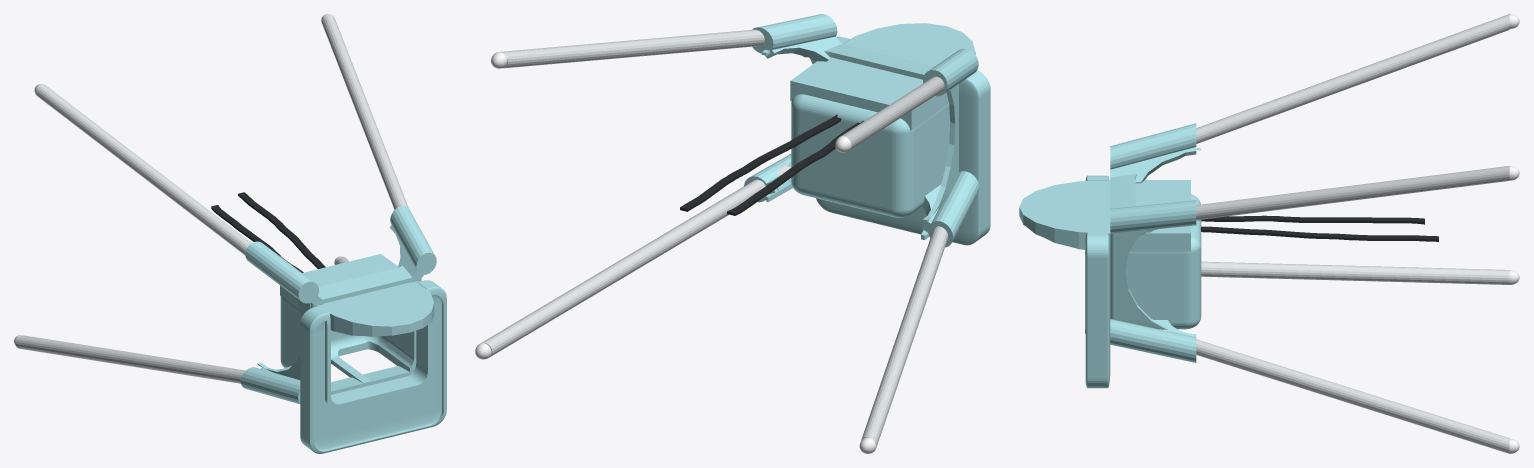
Rendered from antilop.obj.
The picture shows the model from 3 angles, left to right: view 1: azimuth 30°, elevation 25°; view 2: azimuth 150°, elevation 25°; view 3: azimuth 270°, elevation 25°; orthographic projection. The views are drawn at different scales.
Visible parts, largest first — view 1: group_0_11593967, group_0_14541540, group_0_2829873; view 2: group_0_11593967, group_0_14541540, group_0_2829873, group_0_16448250; view 3: group_0_11593967, group_0_14541540, group_0_2829873, group_0_16448250.
Boxes of the visible parts, x1,y1,x2,y2 form: group_0_11593967: [240, 206, 446, 453]; group_0_14541540: [15, 15, 408, 383]; group_0_2829873: [211, 192, 325, 272]; group_0_11593967: [744, 14, 990, 247]; group_0_14541540: [481, 29, 948, 449]; group_0_2829873: [680, 114, 863, 215]; group_0_16448250: [475, 52, 875, 453]; group_0_11593967: [1019, 123, 1201, 388]; group_0_14541540: [1164, 14, 1509, 453]; group_0_2829873: [1200, 215, 1438, 241]; group_0_16448250: [1509, 14, 1519, 453].
Bounding box in the file's own units: 82.34 × 61.22 × 99.
